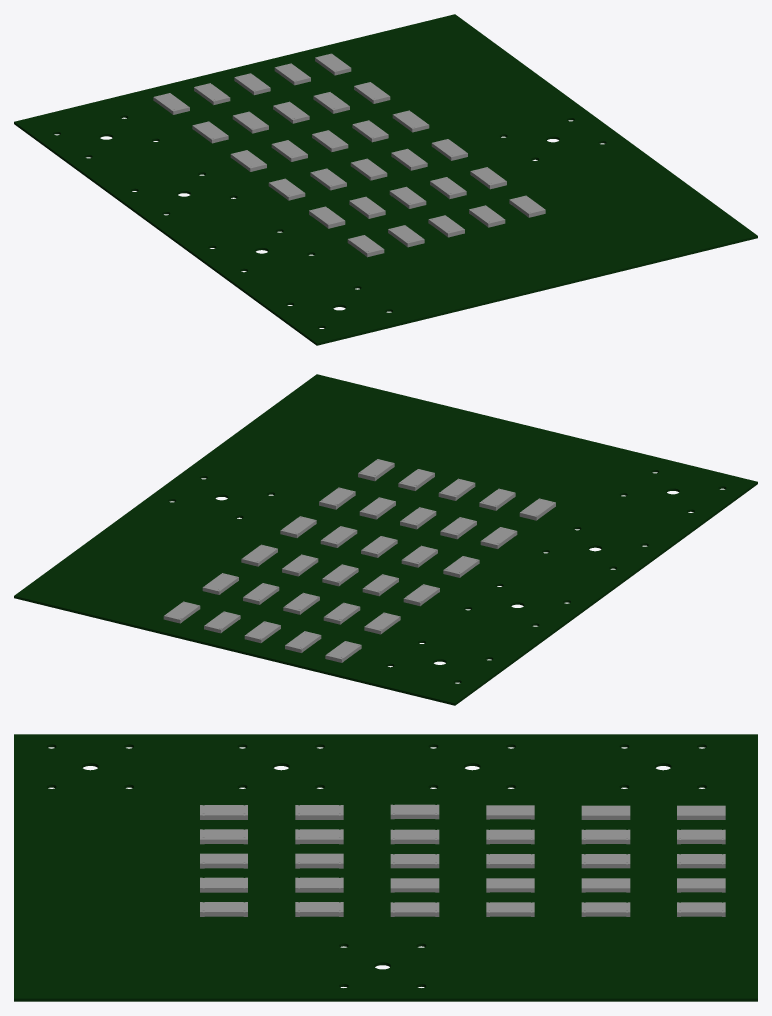
The model's file is imd-test-box.glb.
3 renders of one model, top to bottom at view 1: azimuth 30°, elevation 25°; view 2: azimuth 150°, elevation 25°; view 3: azimuth 270°, elevation 25°, orthographic. The views are drawn at different scales.
Visible parts, largest first — view 1: Open CASCADE STEP translator 7.5 1.1.1, part; view 2: Open CASCADE STEP translator 7.5 1.1.1, part; view 3: Open CASCADE STEP translator 7.5 1.1.1, part.
Boxes of the visible parts, x1,y1,x2,y2 form: Open CASCADE STEP translator 7.5 1.1.1: (14, 14, 757, 345); part: (153, 53, 545, 257); Open CASCADE STEP translator 7.5 1.1.1: (14, 374, 757, 705); part: (163, 459, 555, 662); Open CASCADE STEP translator 7.5 1.1.1: (14, 734, 757, 1001); part: (200, 804, 725, 916).
Size of the model in its own units: 0.0819 by 0.00111 by 0.0974.
